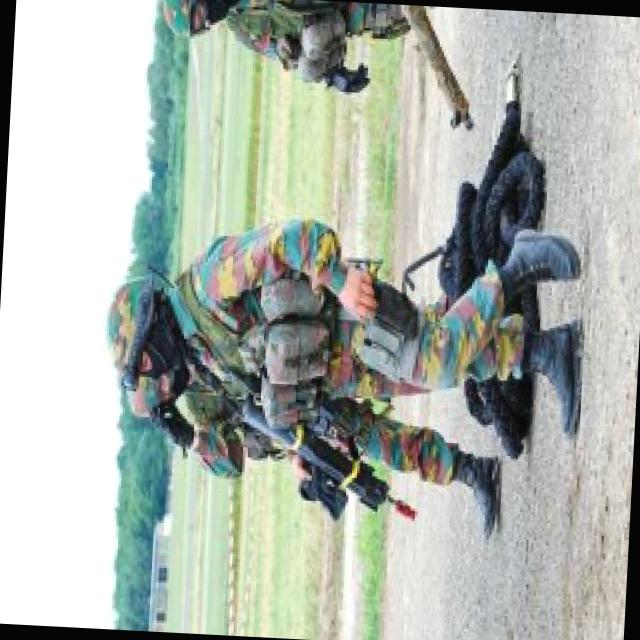knife: (230, 387, 445, 546)
